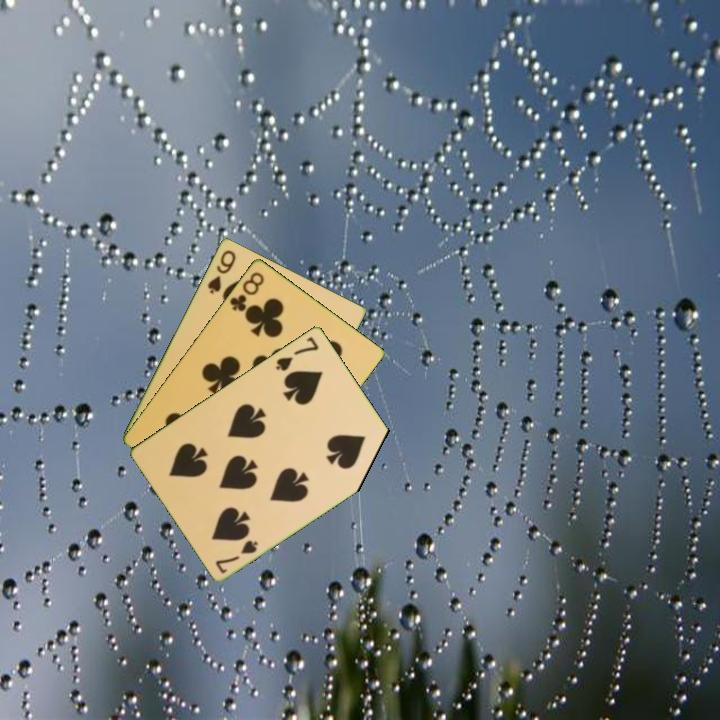7s: (272, 333, 322, 374), (212, 536, 261, 576)
8c: (226, 268, 267, 314)
9s: (204, 246, 239, 296)
